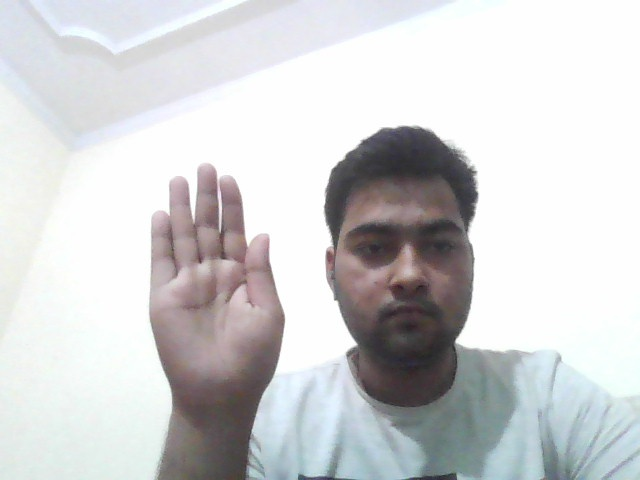Hello: (145, 159, 290, 407)
